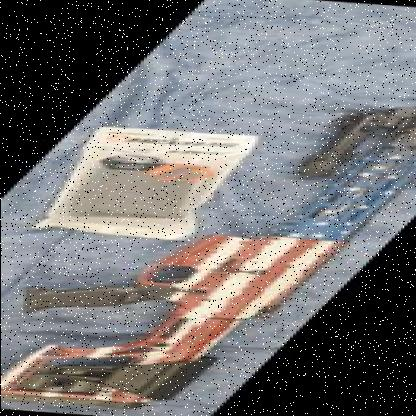rifle: (0, 22, 416, 414)
